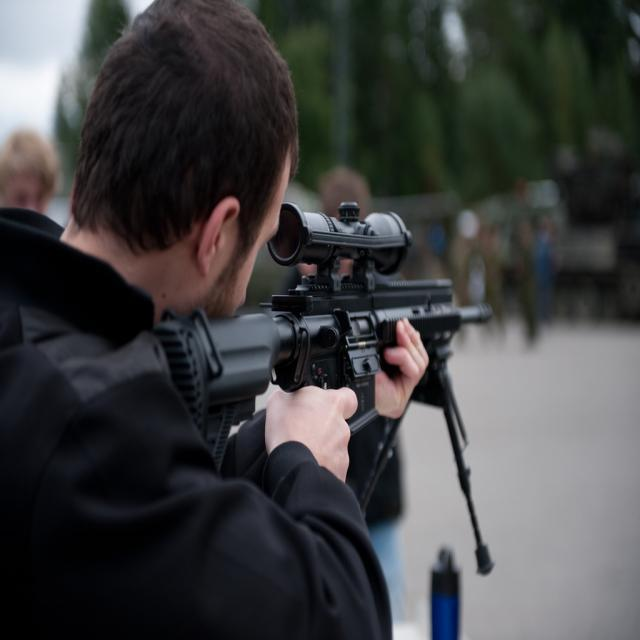weapon: (162, 202, 496, 574)
